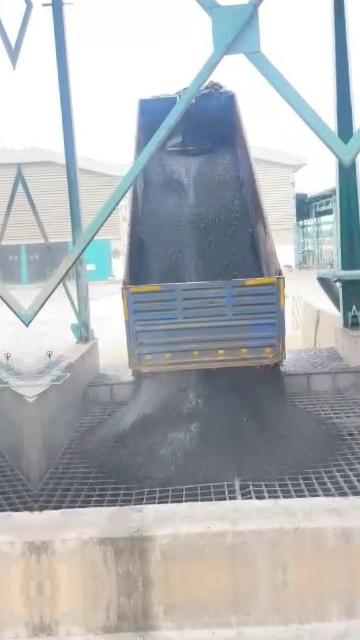gravel: (85, 369, 337, 487), (138, 152, 262, 283), (282, 347, 358, 372)
